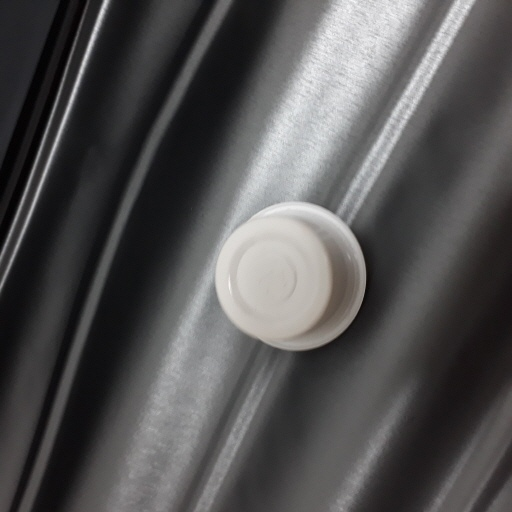Plastic_5: (212, 198, 368, 350)
